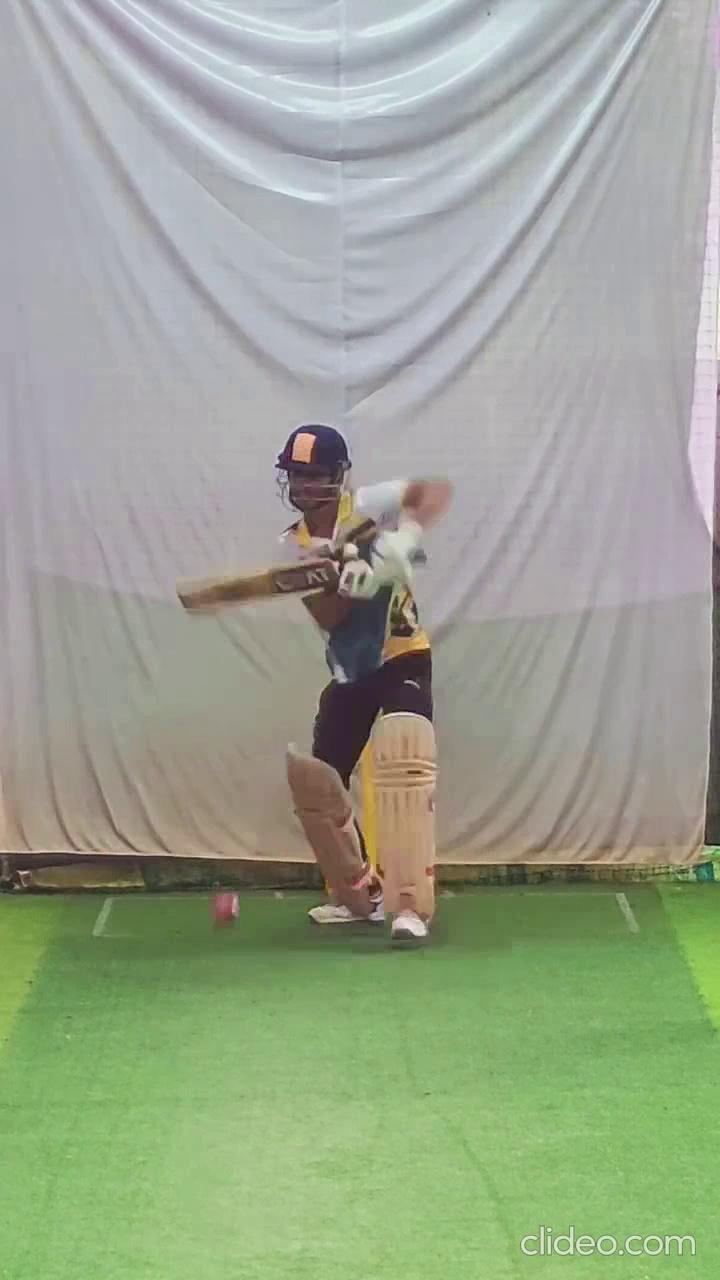bat: (173, 553, 343, 617)
